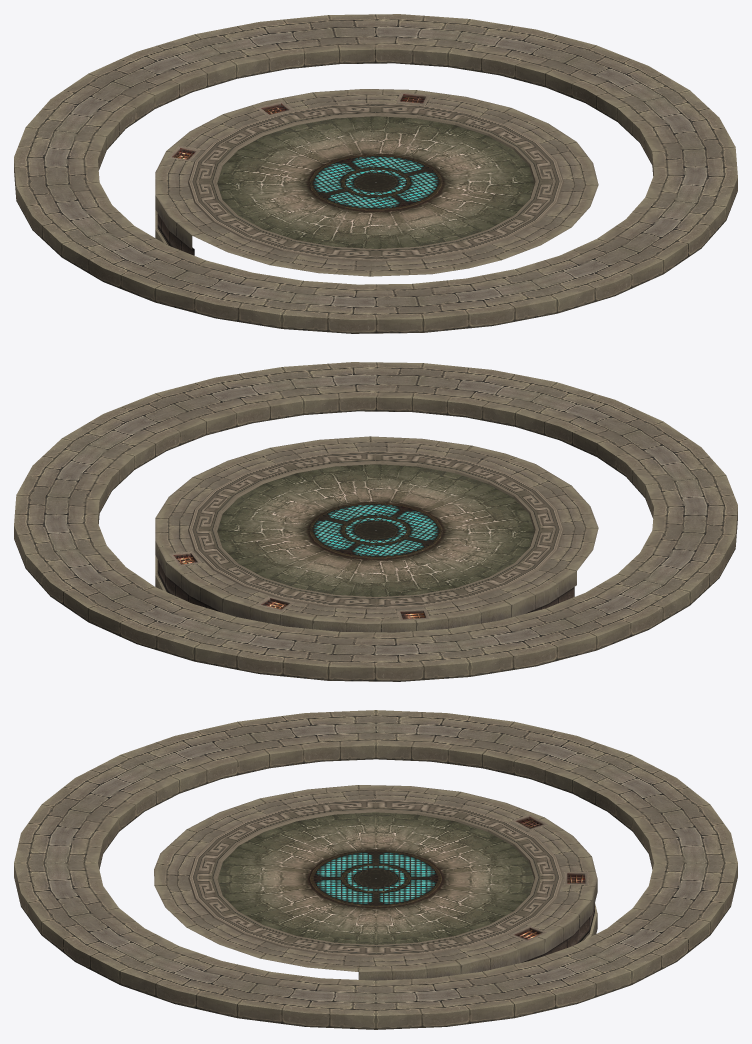
File: HD_YuYanZheZhiTa_001.FBX
The picture shows the model from 3 angles, top to bottom: view 1: azimuth 30°, elevation 25°; view 2: azimuth 150°, elevation 25°; view 3: azimuth 270°, elevation 25°; orthographic projection.
Visible parts, largest first — view 1: HD_YuYanZheZhiTa_001; view 2: HD_YuYanZheZhiTa_001; view 3: HD_YuYanZheZhiTa_001.
Part boxes in pixels (<box>): HD_YuYanZheZhiTa_001: <box>14,14,737,333</box>; HD_YuYanZheZhiTa_001: <box>14,362,737,681</box>; HD_YuYanZheZhiTa_001: <box>14,710,737,1029</box>.
Size of the model in its own units: 5498 by 555 by 5498.
